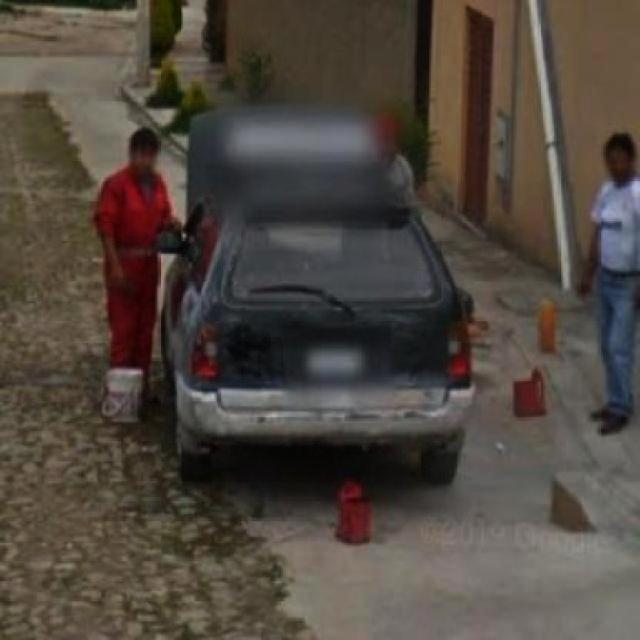car: (164, 122, 483, 486)
